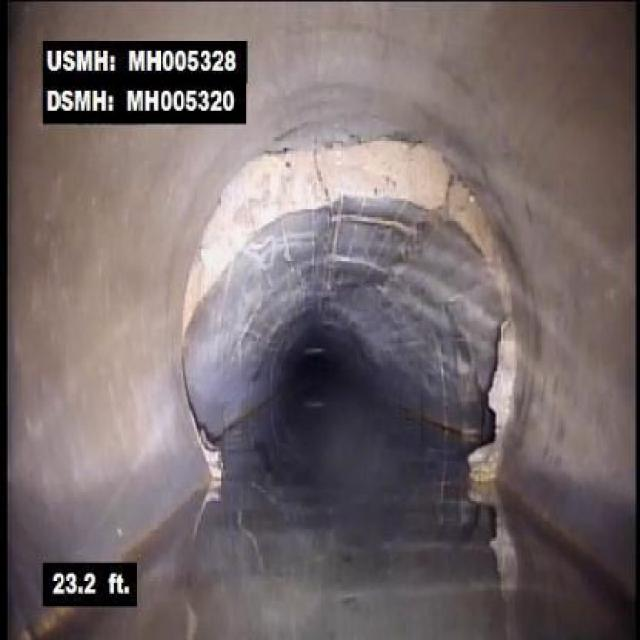Joint offset: (158, 125, 524, 292)
